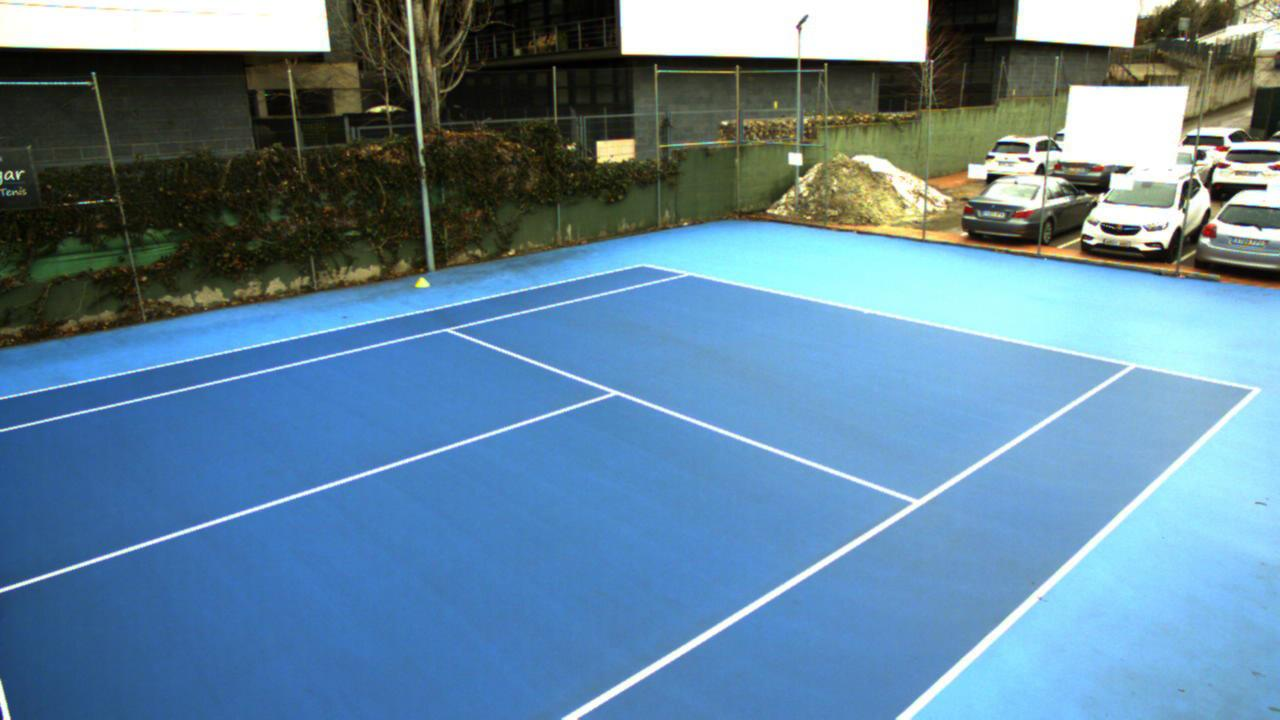cancha_tenis: (0, 272, 1137, 720)
point_f1: (672, 264, 697, 284)
point_f2: (1118, 350, 1143, 377)
point_fc1: (858, 303, 874, 321)
point_i1: (438, 321, 463, 341)
point_i2: (893, 487, 930, 515)
point_ic1: (596, 379, 625, 404)
